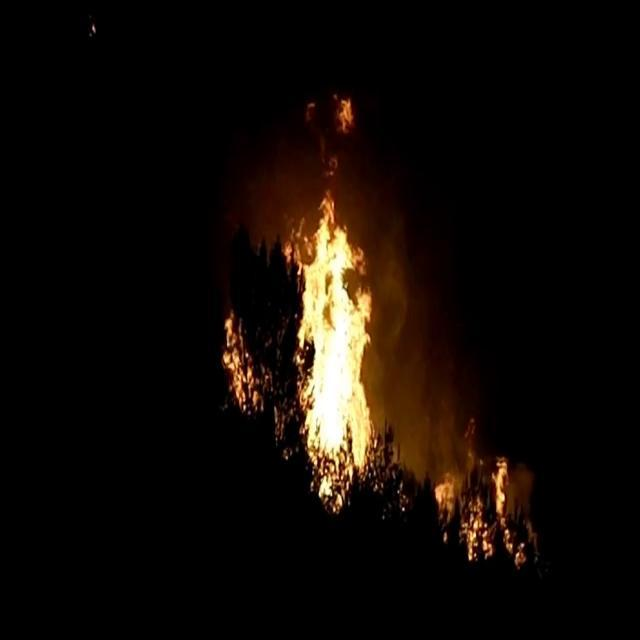Fire: (224, 192, 372, 514)
